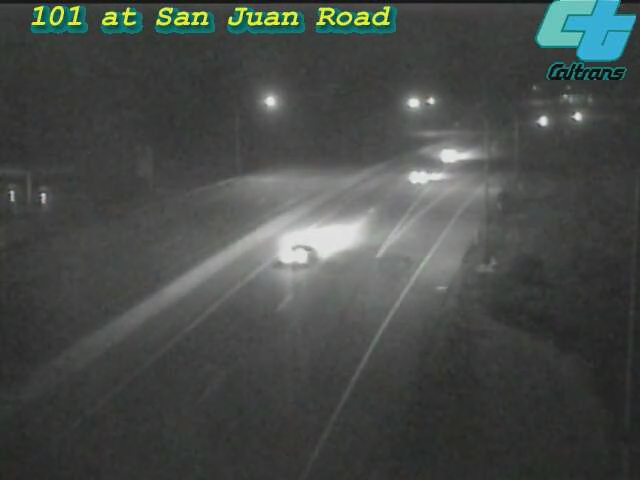vehicle: (378, 138, 458, 218), (261, 214, 341, 294), (516, 94, 566, 144), (555, 91, 605, 141), (423, 132, 473, 182)
